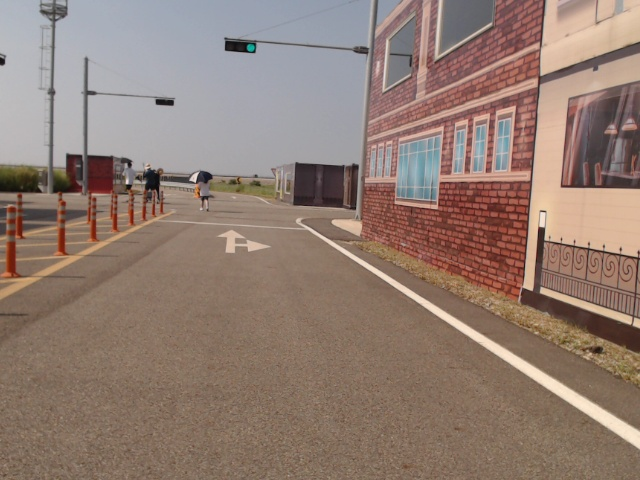green_3: (224, 40, 256, 54)
